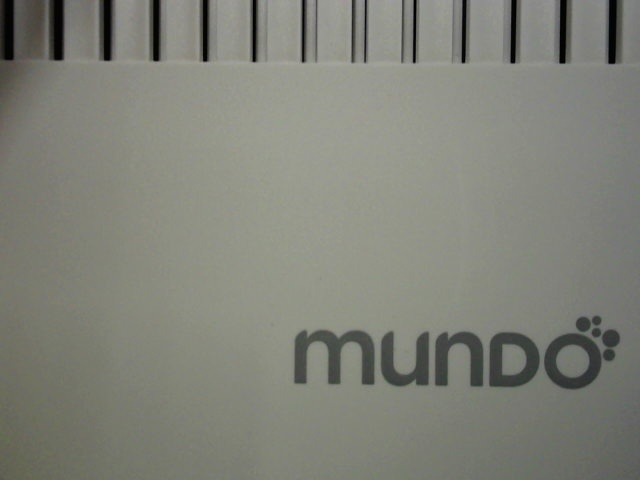BI_MUNDO: (263, 286, 628, 398)
